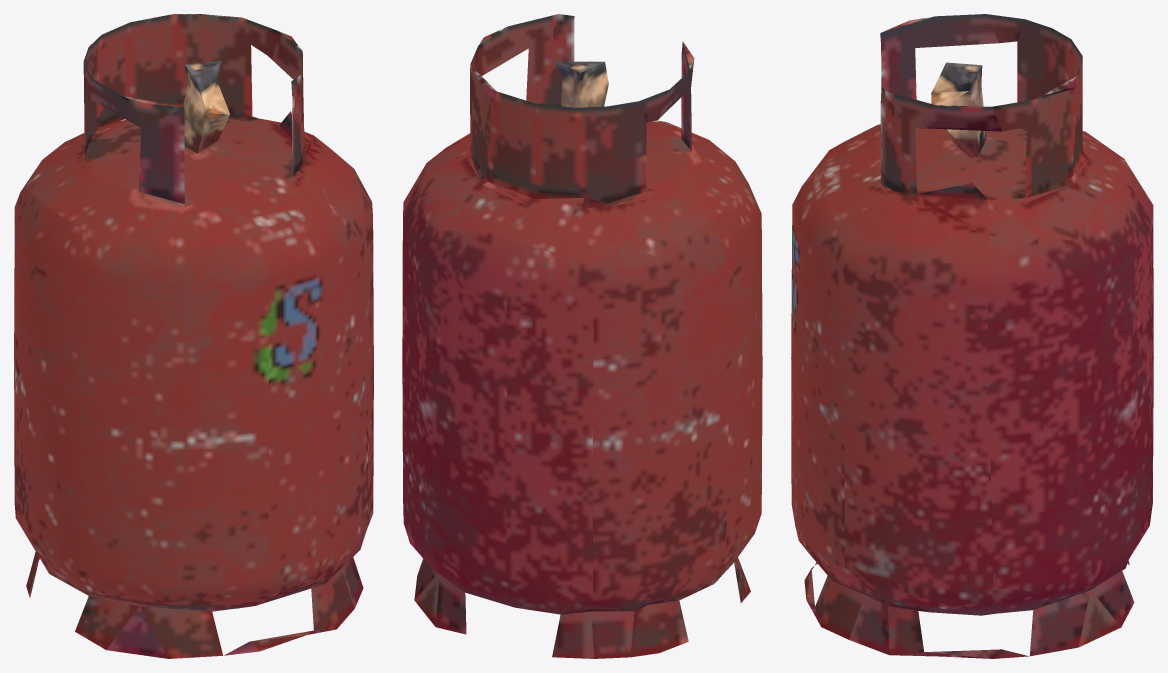
The model's file is propane_tank.glb.
3 renders of one model, left to right at view 1: azimuth 30°, elevation 25°; view 2: azimuth 150°, elevation 25°; view 3: azimuth 270°, elevation 25°, orthographic.
Visible parts, largest first — view 1: mesh; view 2: mesh; view 3: mesh.
Boxes of the visible parts, bbox=[...] form: mesh: bbox=[14, 14, 373, 658]; mesh: bbox=[402, 14, 762, 658]; mesh: bbox=[791, 14, 1153, 658].
Size of the model in its own units: 0.3409 by 0.5538 by 0.3409.
Materials: 1 (1 with a texture image).
